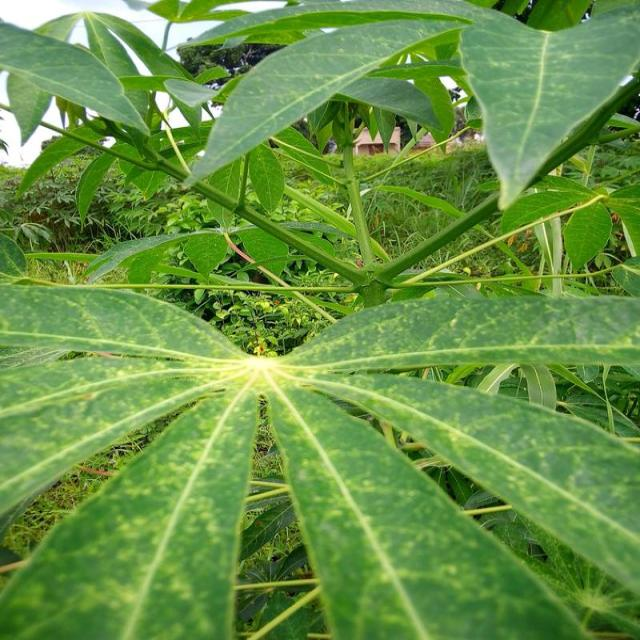cassava leaf: (1, 277, 640, 638), (267, 373, 596, 639), (2, 380, 260, 638), (458, 0, 640, 211)
